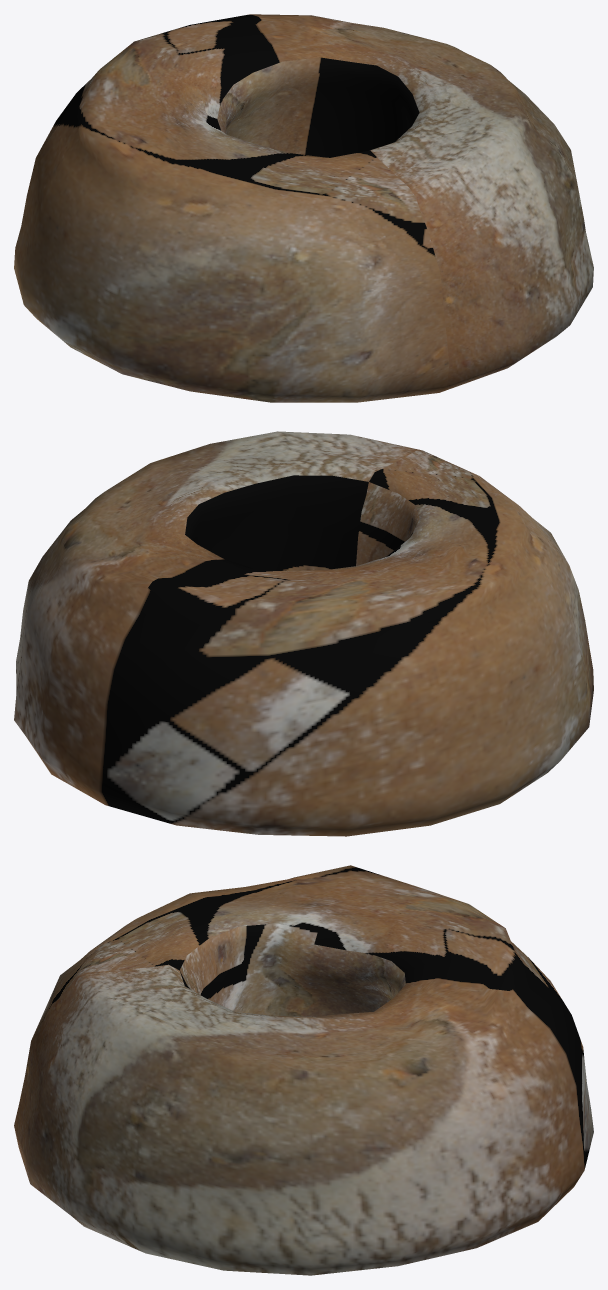
Rendered from SM_Cake.fbx.
3 renders of one model, top to bottom at view 1: azimuth 30°, elevation 25°; view 2: azimuth 150°, elevation 25°; view 3: azimuth 270°, elevation 25°, orthographic. The views are drawn at different scales.
Visible parts, largest first — view 1: Cake_LP_T_Cake_Export; view 2: Cake_LP_T_Cake_Export; view 3: Cake_LP_T_Cake_Export.
Part boxes in pixels (x1,y1,x2,y2): Cake_LP_T_Cake_Export: (14, 14, 593, 402); Cake_LP_T_Cake_Export: (14, 431, 593, 836); Cake_LP_T_Cake_Export: (14, 865, 593, 1275).
Bounding box in the file's own units: 22.16 × 9.22 × 22.38.
